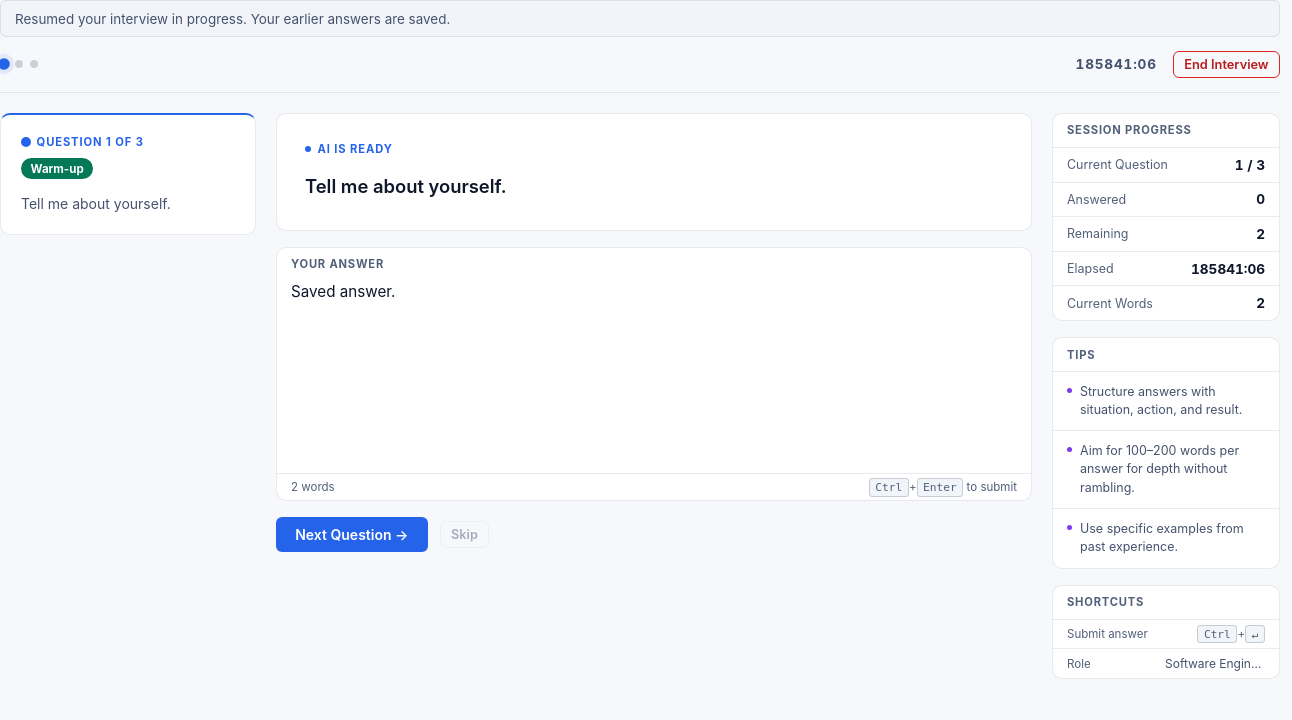
Test: LiveInterviewPage › Next question (retry safety) › when an earlier answer to the same question is already saved › does not resubmit anything automatically
Expected: the text with test id "current-question" is shown, [305,175,506,197]
Replace the text in the text box named "your answer" with "Edited answer." at (654, 370), box [277,271,1031,468]
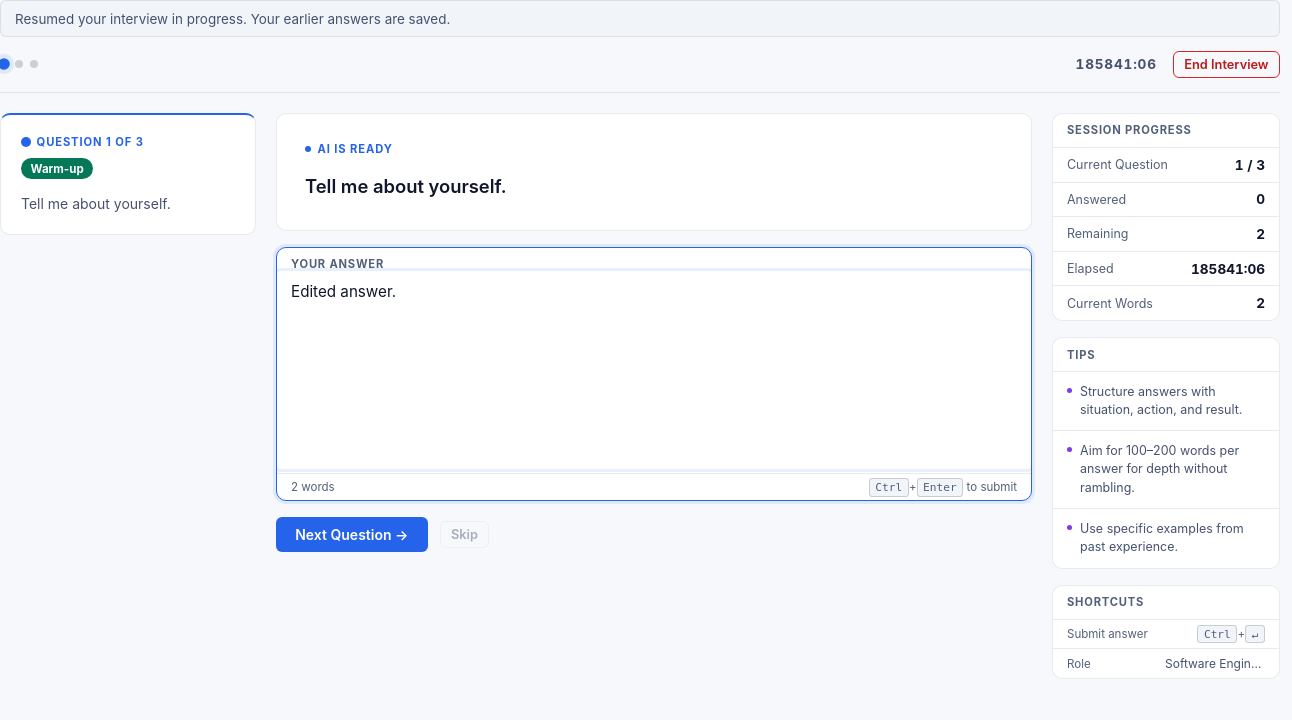
Click the button "Next Question →" at (352, 535), box [276,517,428,552]
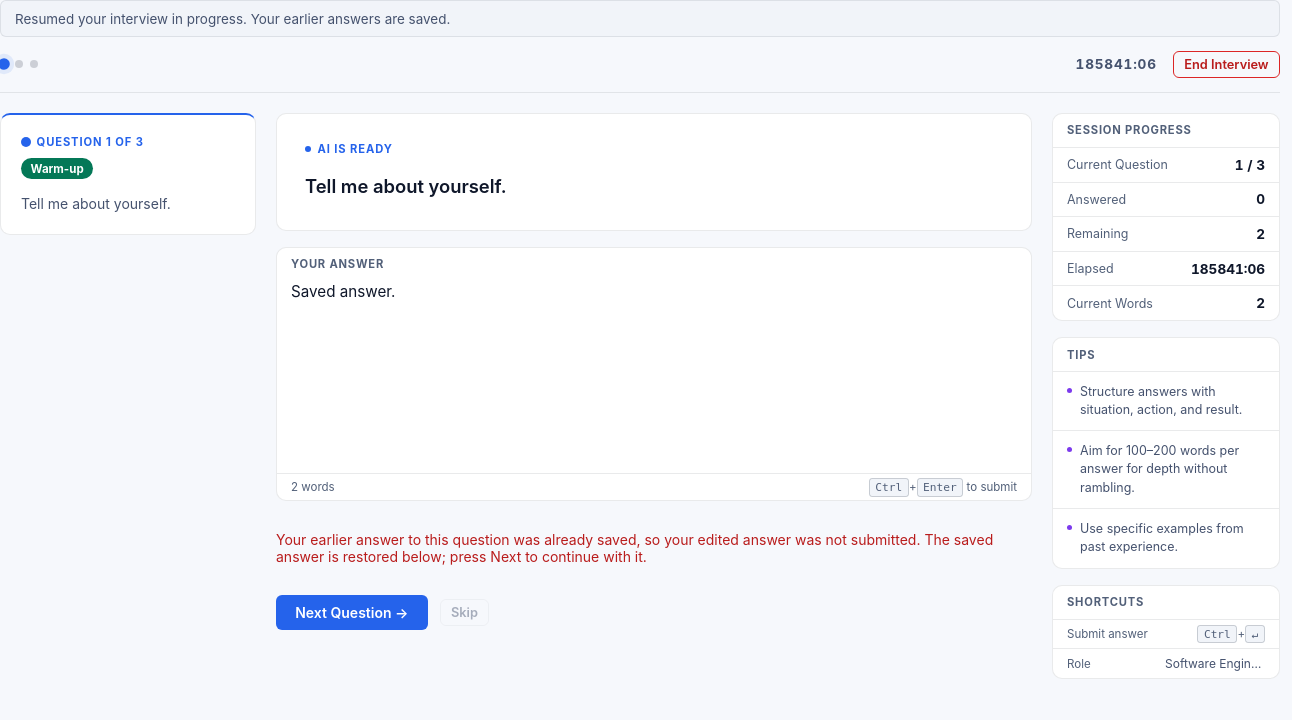
Expected: the text "earlier answer to this question was already saved" is shown, [276,531,993,565]
